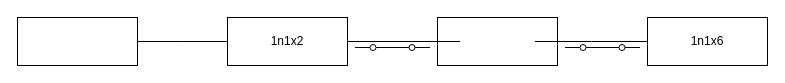
This 785x83 diagram has some shape labels left out. The centre of each missing label's shape, as x and y in pixels:
"1n1x4" belongs at (497,41).
"I母GSGB母线保护柜/1ID:4" belongs at (77,41).
